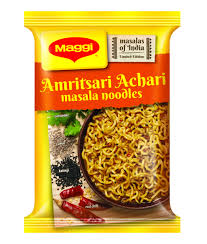maggi: (33, 13, 170, 231)
